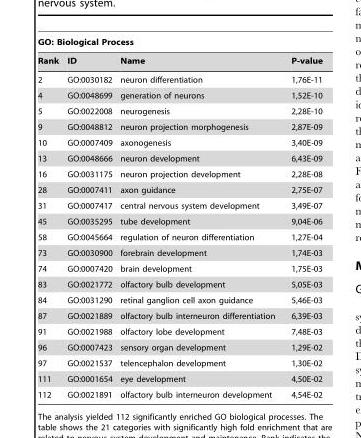table: (37, 37, 322, 398)
table column: (115, 37, 282, 398), (62, 37, 115, 398), (282, 37, 322, 398), (37, 37, 62, 398)
table column header: (37, 37, 322, 70)
table row: (37, 51, 322, 70), (37, 70, 322, 87), (37, 87, 322, 103), (37, 118, 322, 134), (37, 134, 322, 150), (37, 150, 322, 166), (37, 181, 322, 197), (37, 197, 322, 213), (37, 213, 322, 229), (37, 244, 322, 260), (37, 260, 322, 276), (37, 276, 322, 292), (37, 307, 322, 323), (37, 323, 322, 339), (37, 339, 322, 355), (37, 370, 322, 386), (37, 103, 322, 118), (37, 166, 322, 181), (37, 229, 322, 244), (37, 292, 322, 307), (37, 355, 322, 370), (37, 37, 322, 51), (37, 386, 322, 398)
table spanning cell: (37, 37, 322, 51)
